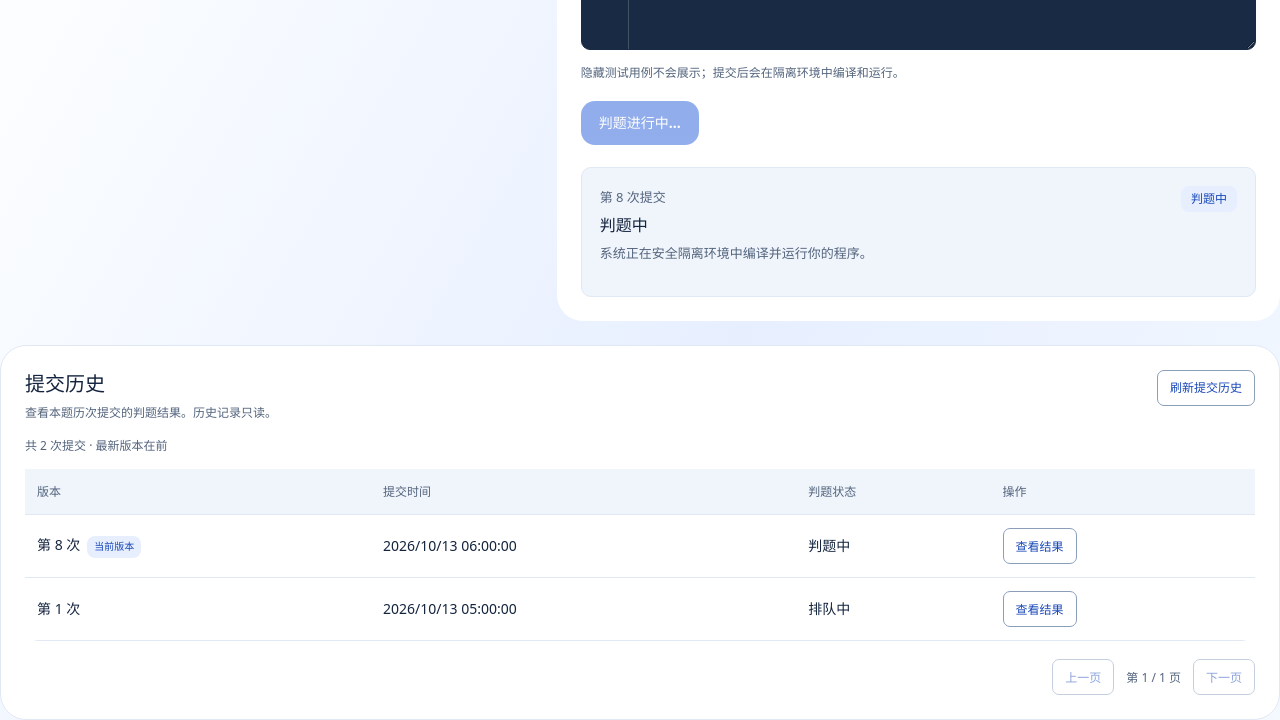
Test: 查看旧版不会替换代码，也不会阻止当前版本判题完成后重新提交
This screenshot has width=1280, height=720.
(page scrolled)
Expected: the button with class "submit-button" is disabled, 581,101 -> 699,145
Step 1. Click the button with aria-label "查看第 1 次提交结果" → {"x": 1040, "y": 609}, box 1003,591 -> 1077,627
Wait 2000 ms
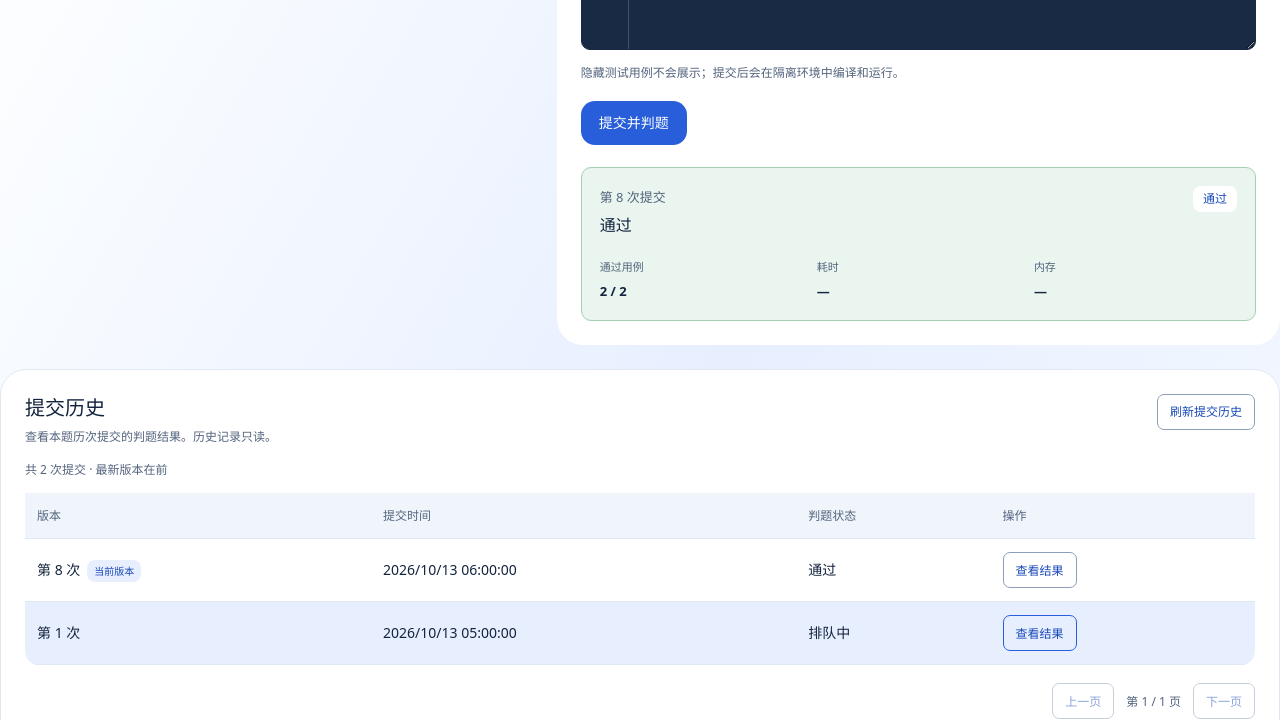
Expected: the button with class "submit-button" is enabled, 581,101 -> 687,145
Expected: the element with class "result" shows "通过", 600,214 -> 632,236
